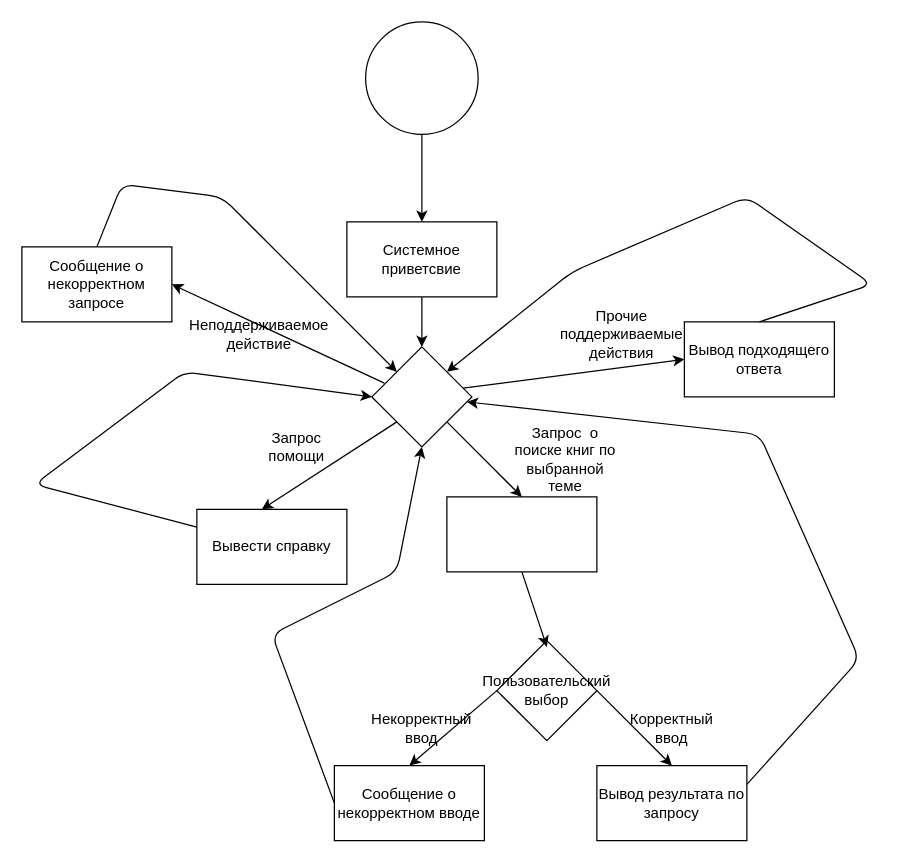
Image size: 904x863. Some labels were removed from this diagram. Each missing label, with the centre of its shape:
Вход пользователя и начало диалога: (x=421, y=77)
выбор действия: (x=421, y=396)
Вывести сообщение о возможных вариантах: (x=521, y=534)
